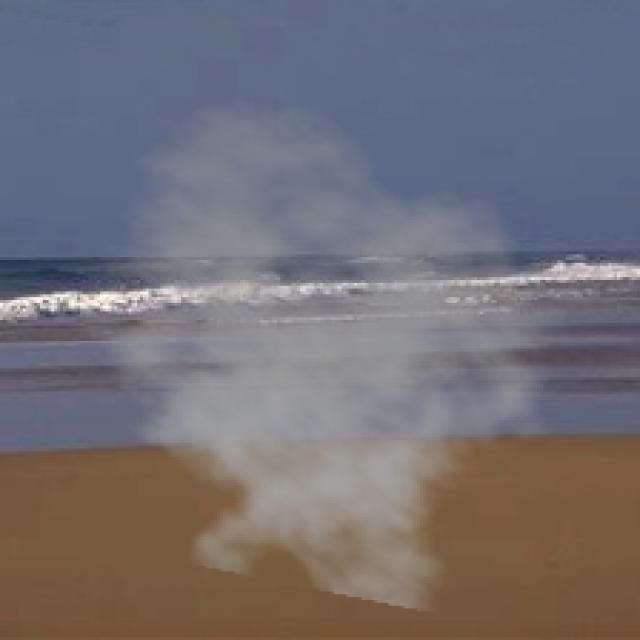smoke: (54, 97, 572, 614)
